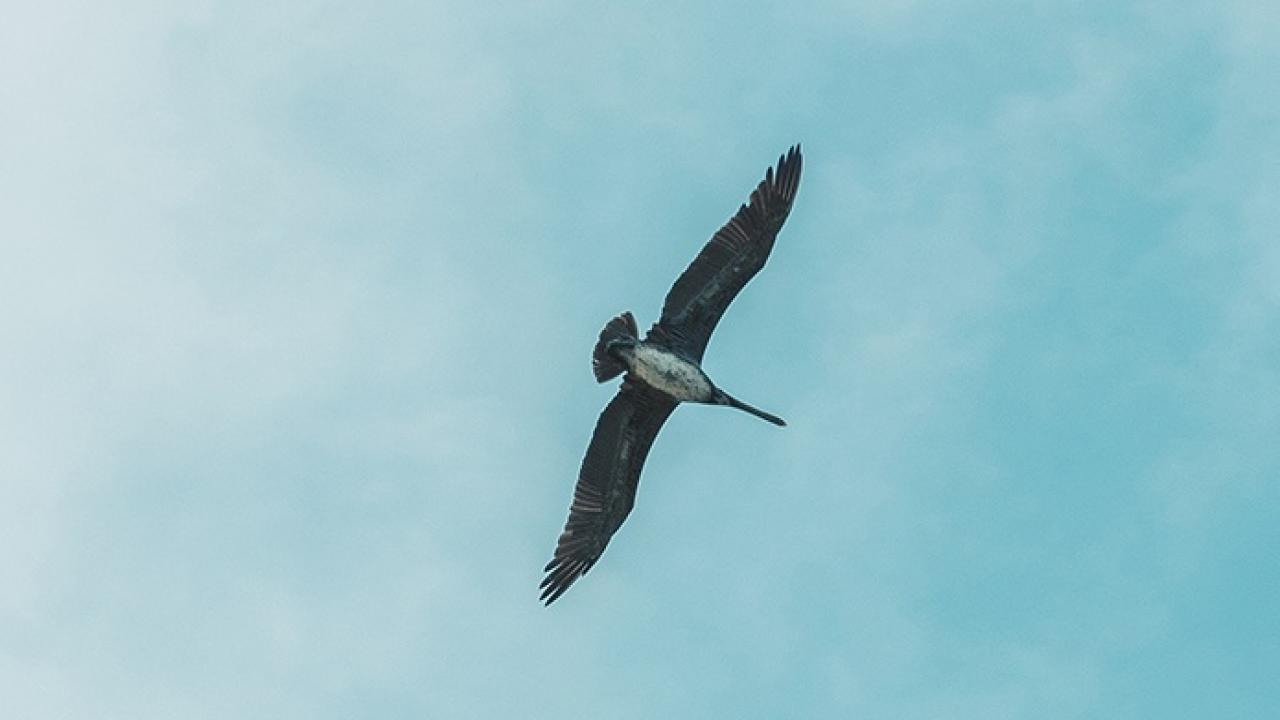Bird: (533, 137, 814, 614)
